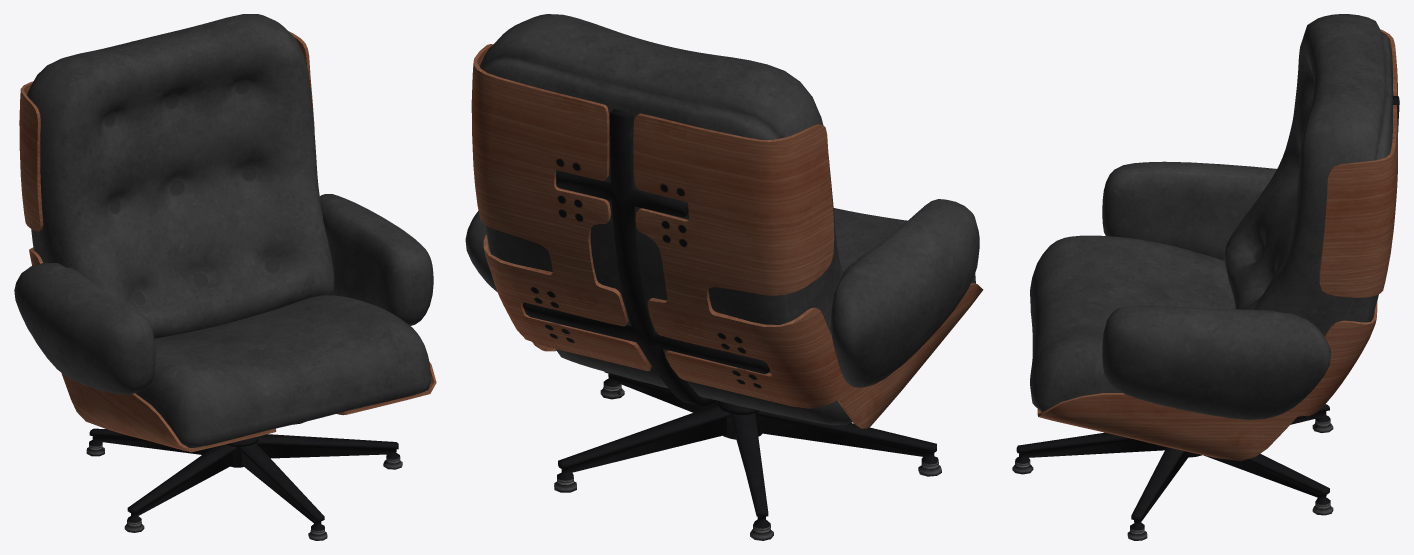
Rendered from Furnario_Chair.glb.
3 views of the same model, side by side, from view 1: azimuth 30°, elevation 25°; view 2: azimuth 150°, elevation 25°; view 3: azimuth 270°, elevation 25° (orthographic). The views are drawn at different scales.
Parts seen in each view (by area): view 1: Chair, Chair.008; view 2: Chair, Chair.008; view 3: Chair, Chair.008.
Part boxes in pixels (left/top/right/bottom): Chair: left=14, top=14, right=433, bottom=540; Chair.008: left=19, top=31, right=436, bottom=452; Chair: left=465, top=14, right=979, bottom=540; Chair.008: left=471, top=44, right=983, bottom=428; Chair: left=1012, top=14, right=1399, bottom=540; Chair.008: left=1037, top=29, right=1397, bottom=461.
Bounding box in the file's own units: 0.9428 × 1 × 0.8593.
1 material, 1 textured.
